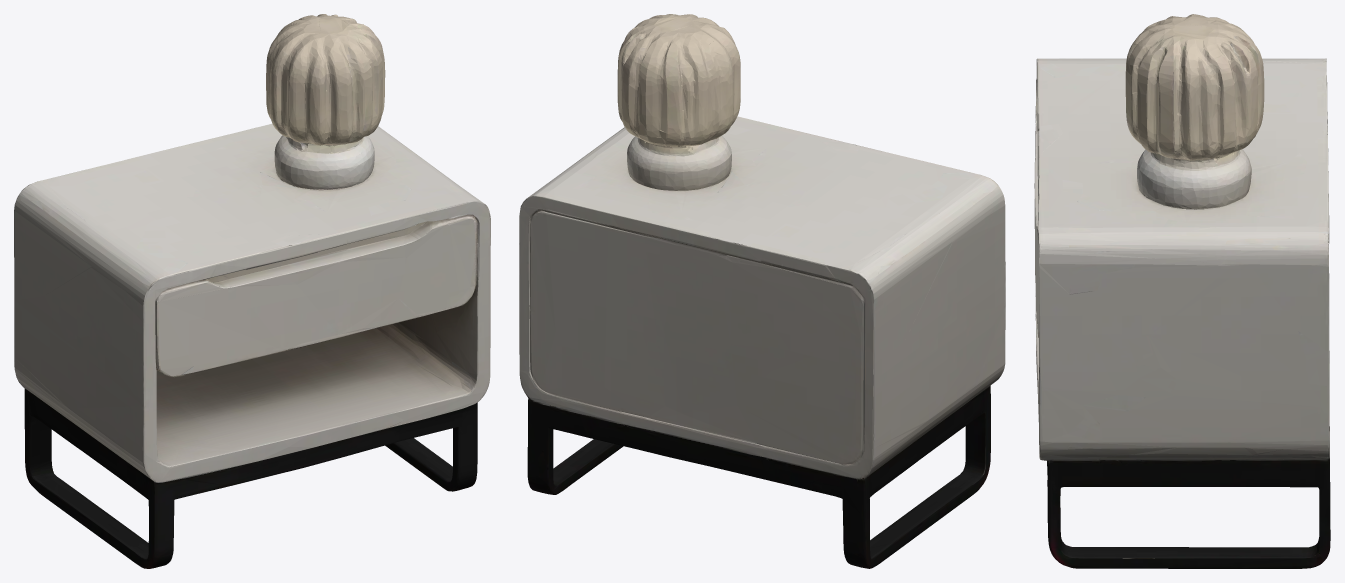
Rendered from nightstand_lamp_white.glb.
The picture shows the model from 3 angles, left to right: view 1: azimuth 30°, elevation 25°; view 2: azimuth 150°, elevation 25°; view 3: azimuth 270°, elevation 25°; orthographic projection. The views are drawn at different scales.
Parts seen in each view (by area): view 1: geometry_0; view 2: geometry_0; view 3: geometry_0.
Part boxes in pixels (<box>): geometry_0: <box>14,14,490,568</box>; geometry_0: <box>519,14,1005,568</box>; geometry_0: <box>1034,14,1330,568</box>.
Bounding box in the file's own units: 0.8259 × 0.9998 × 0.5426.
1 material, 1 textured.
